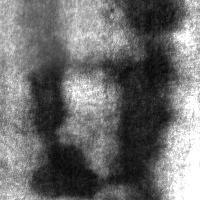patches: (94, 38, 180, 200), (52, 108, 152, 200), (0, 0, 103, 77), (20, 1, 72, 140), (24, 142, 105, 199), (115, 1, 186, 37)
